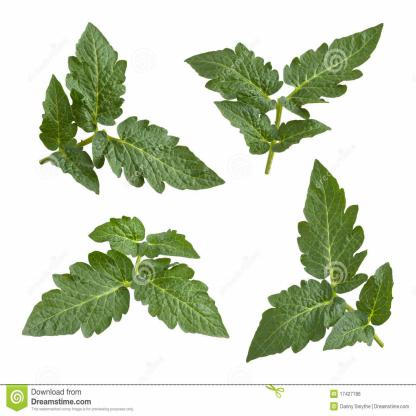Tomato leaf: (20, 242, 135, 355), (97, 113, 236, 205), (296, 154, 375, 304), (282, 15, 402, 113), (136, 253, 240, 348), (58, 13, 136, 130), (174, 36, 282, 115)
